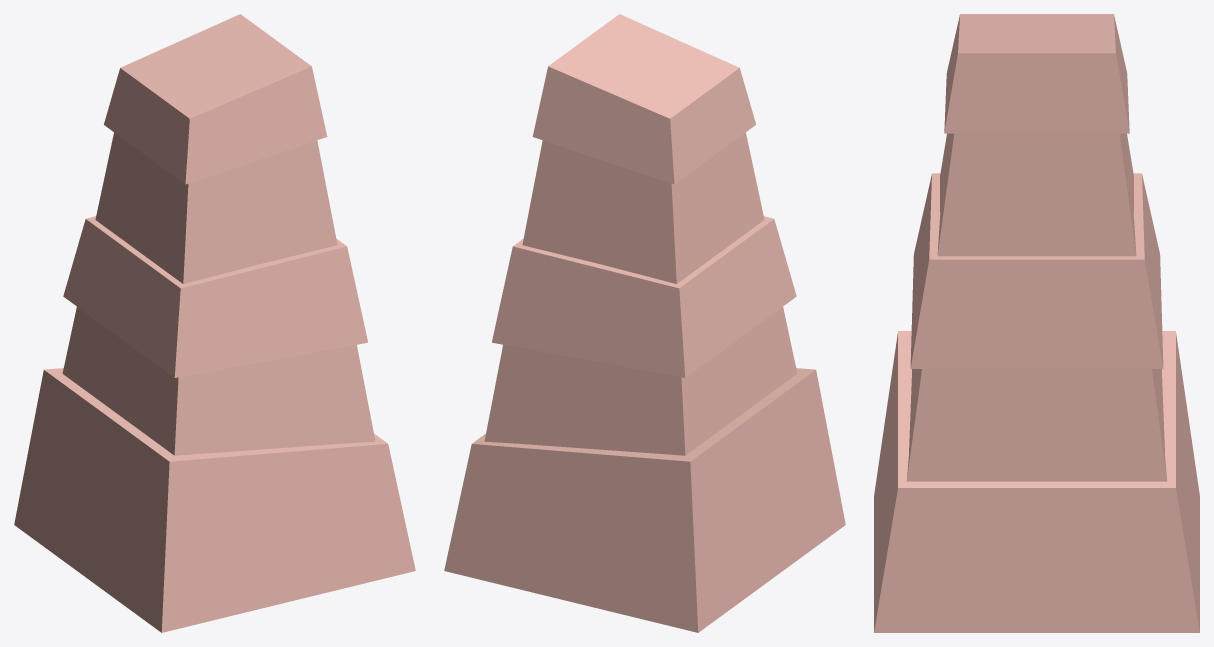
Rendered from Mega_Asset_s_Pack_Cube_199.FBX.
3 views of the same model, side by side, from view 1: azimuth 30°, elevation 25°; view 2: azimuth 150°, elevation 25°; view 3: azimuth 270°, elevation 25° (orthographic). The views are drawn at different scales.
Visible parts, largest first — view 1: Mega_Asset_s_Pack_Cube_199; view 2: Mega_Asset_s_Pack_Cube_199; view 3: Mega_Asset_s_Pack_Cube_199.
Part boxes in pixels (x1=…): Mega_Asset_s_Pack_Cube_199: x1=14, y1=14, x2=415, y2=632; Mega_Asset_s_Pack_Cube_199: x1=444, y1=14, x2=845, y2=632; Mega_Asset_s_Pack_Cube_199: x1=874, y1=14, x2=1199, y2=632.
Size of what is drawn, in the model's own units: 114 by 115 by 212.
